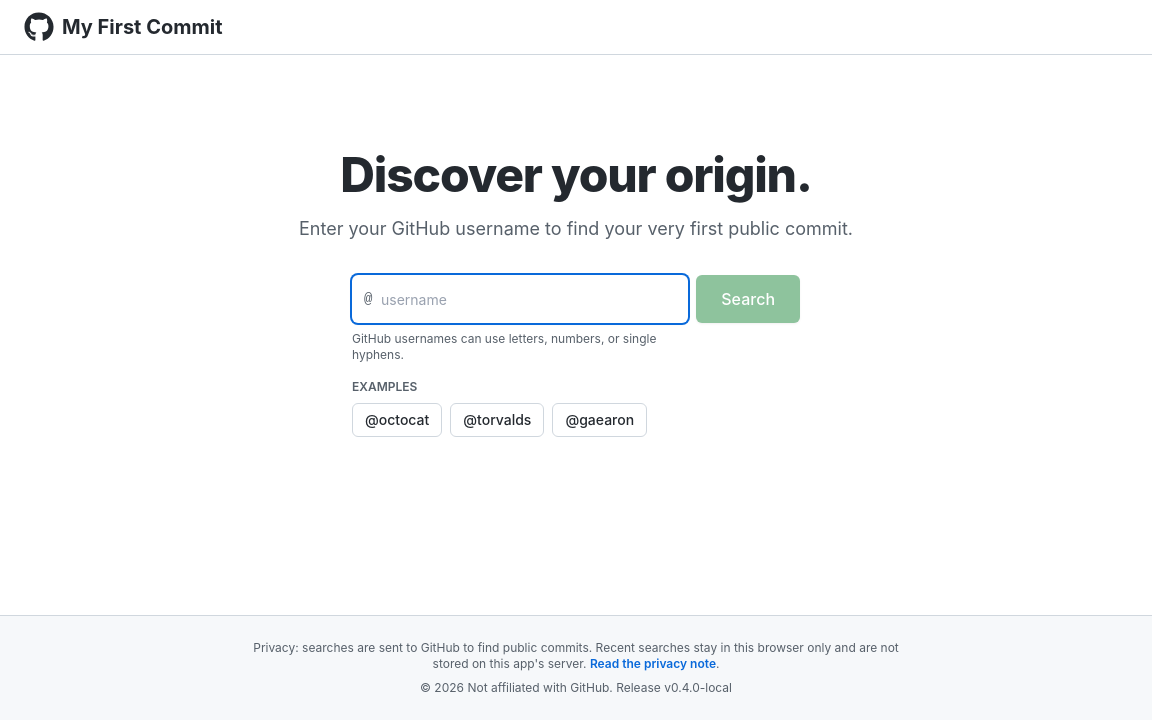
Scenario: Home › shows a helpful status when copying a result fails
In the search field named "github username": (520, 299) [352,275,688,323], type "octo"
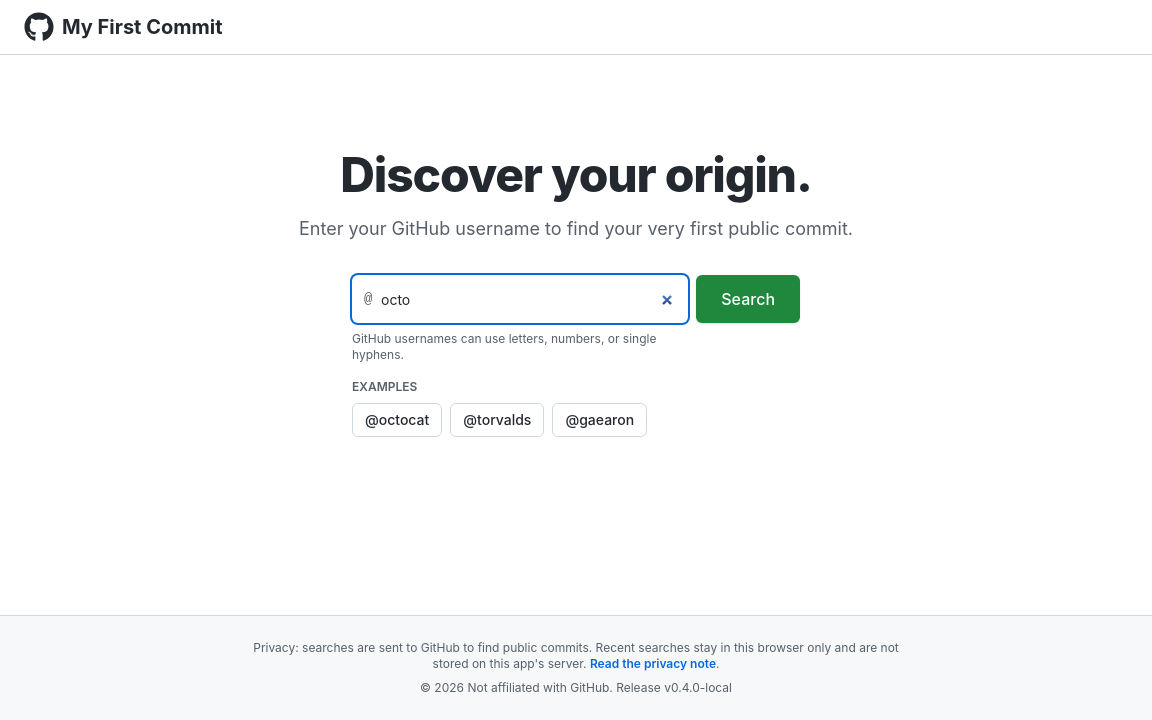
Click the button "Search": (748, 299) [696,275,800,323]
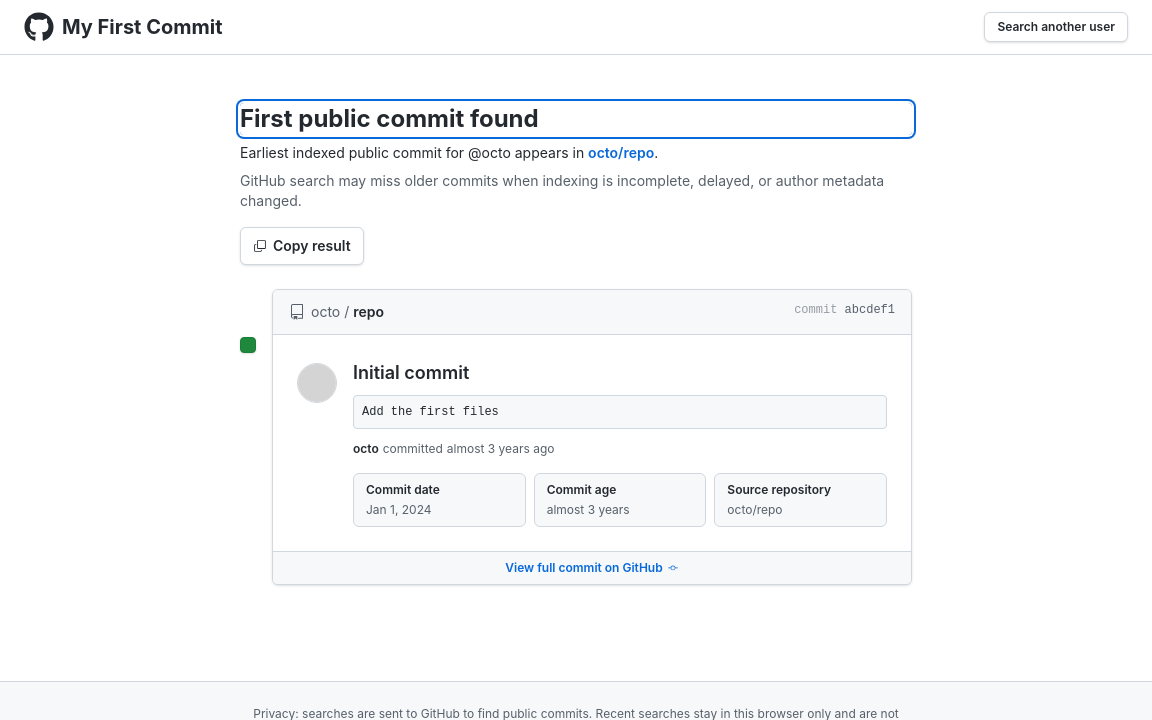
expect the heading "First public commit found" is shown: met, box [240,103,912,135]
Click the button "Copy result": (302, 246) [240,227,364,265]
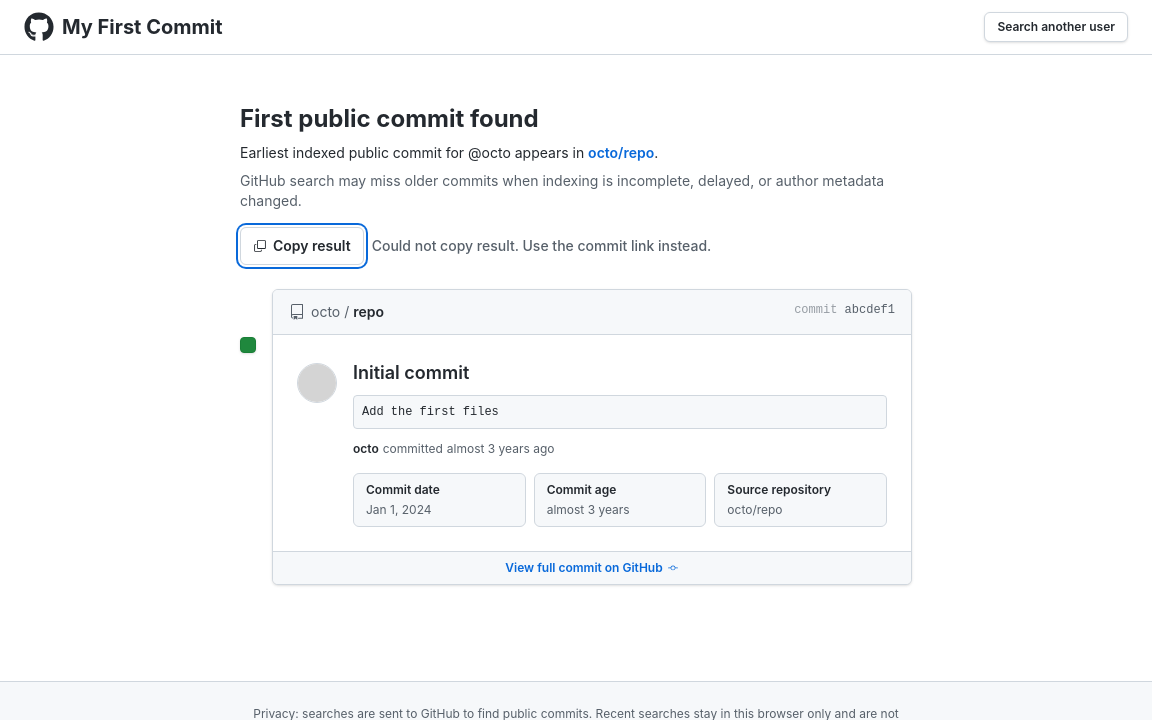
expect the message shows "Could not copy result": met, box [372,237,711,254]
